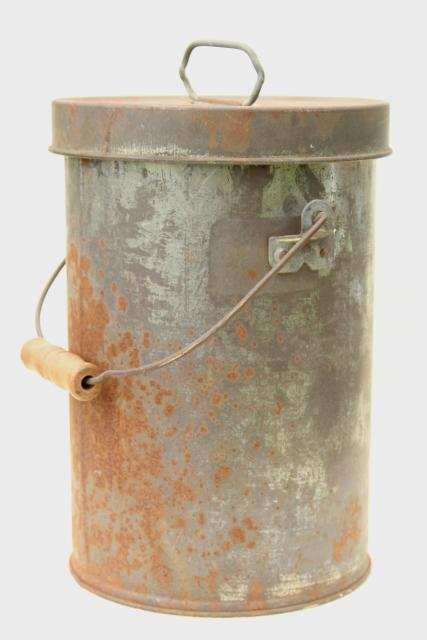metal: (18, 39, 393, 616)
